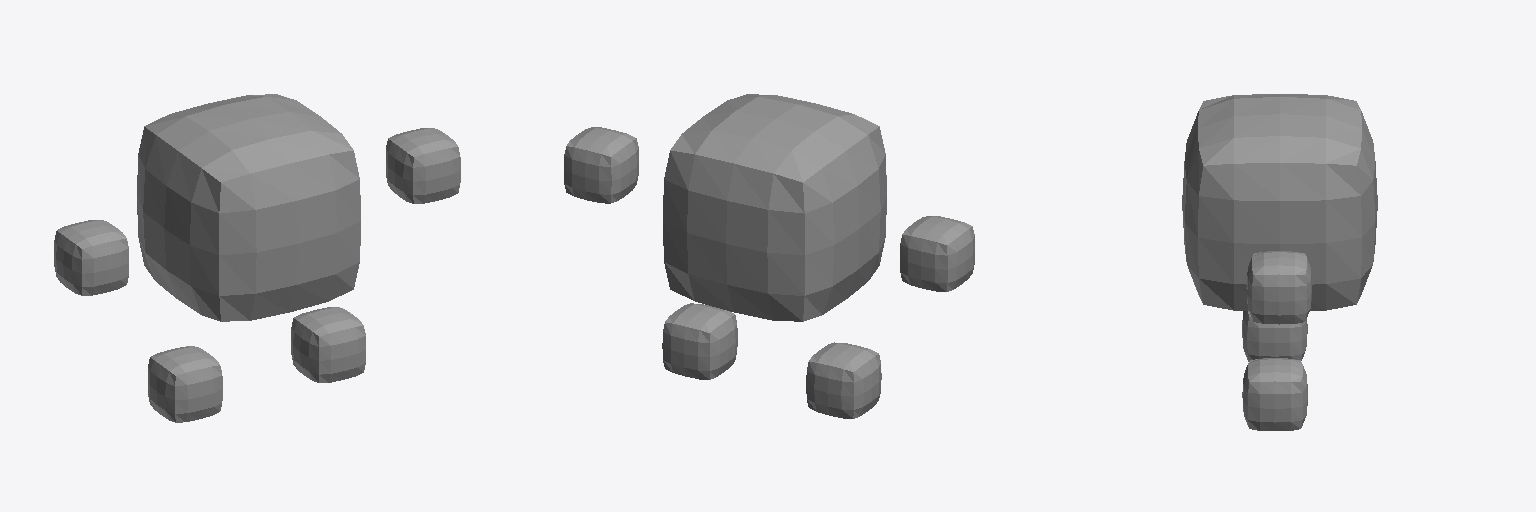
Rendered from boxMan.obj.
3 views of the same model, side by side, from view 1: azimuth 30°, elevation 25°; view 2: azimuth 150°, elevation 25°; view 3: azimuth 270°, elevation 25° (orthographic).
Visible parts, largest first — view 1: Cube_Cube.001, Cube.002_Cube.003, Cube.004_Cube.005, Cube.001_Cube.002, Cube.003_Cube.004; view 2: Cube_Cube.001, Cube.003_Cube.004, Cube.004_Cube.005, Cube.002_Cube.003, Cube.001_Cube.002; view 3: Cube_Cube.001, Cube.004_Cube.005, Cube.001_Cube.002, Cube.002_Cube.003.
Boxes of the visible parts, <box> form: Cube_Cube.001: <box>137,94,360,321</box>; Cube.002_Cube.003: <box>148,346,222,422</box>; Cube.004_Cube.005: <box>386,128,460,203</box>; Cube.001_Cube.002: <box>291,307,365,382</box>; Cube.003_Cube.004: <box>54,220,128,295</box>; Cube_Cube.001: <box>663,94,886,321</box>; Cube.003_Cube.004: <box>900,216,974,291</box>; Cube.004_Cube.005: <box>564,127,638,203</box>; Cube.002_Cube.003: <box>806,342,881,418</box>; Cube.001_Cube.002: <box>662,303,737,379</box>; Cube_Cube.001: <box>1182,94,1377,310</box>; Cube.004_Cube.005: <box>1246,251,1311,324</box>; Cube.001_Cube.002: <box>1242,358,1307,430</box>; Cube.002_Cube.003: <box>1242,311,1307,361</box>.
Bounding box in the file's own units: 4.53 × 3.07 × 1.97.